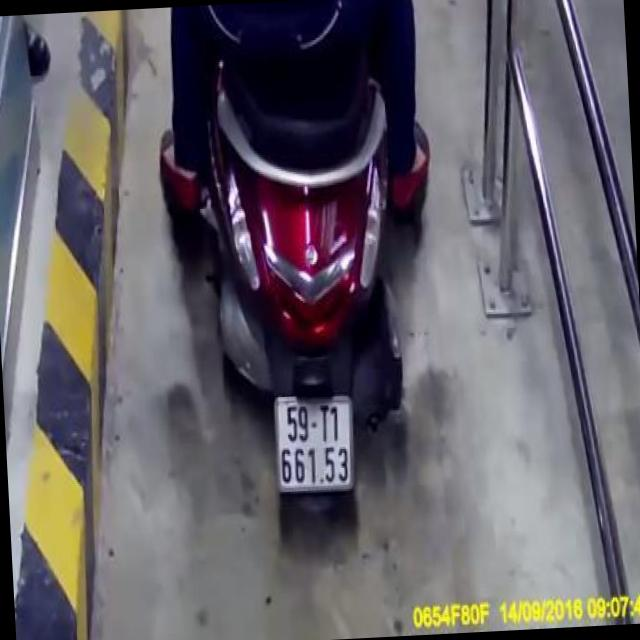LP: (273, 389, 358, 497)
